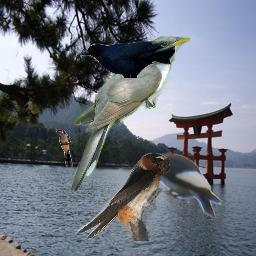Crow: (76, 41, 175, 78)
Cuckoo: (70, 36, 190, 191), (54, 129, 73, 167)
Swallow: (75, 153, 170, 241)
Woodpecker: (133, 152, 224, 220)
